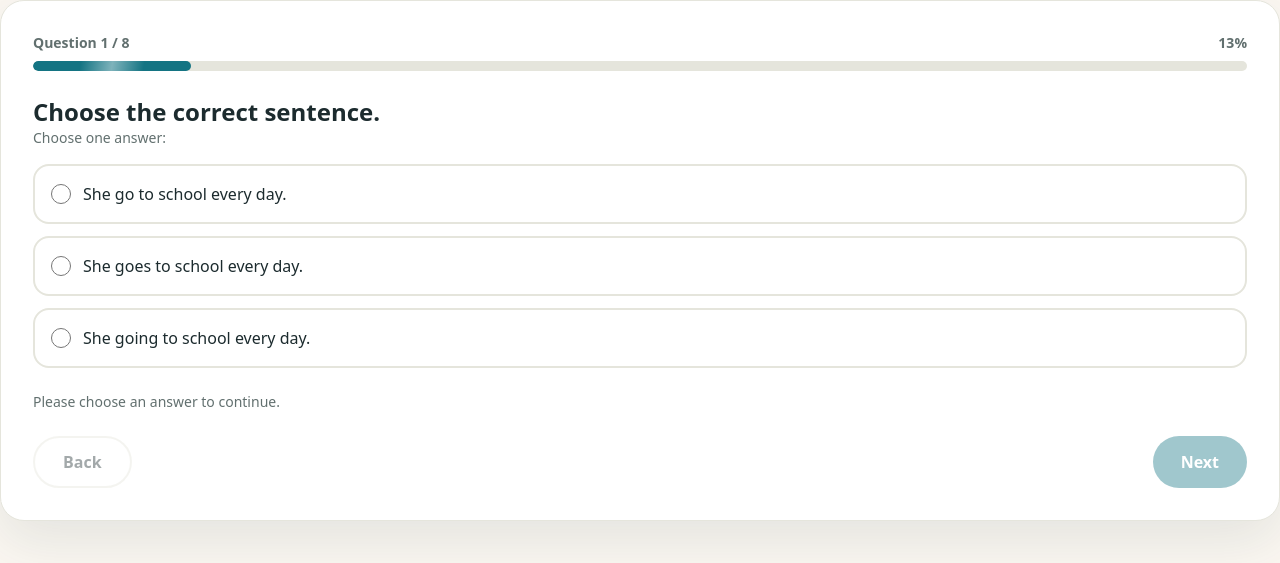
Test: LevelQuiz › preserves the selected answer when navigating back
Click the radio button labelled "She goes to school every day." at x=61, y=266, box [51,256,71,276]
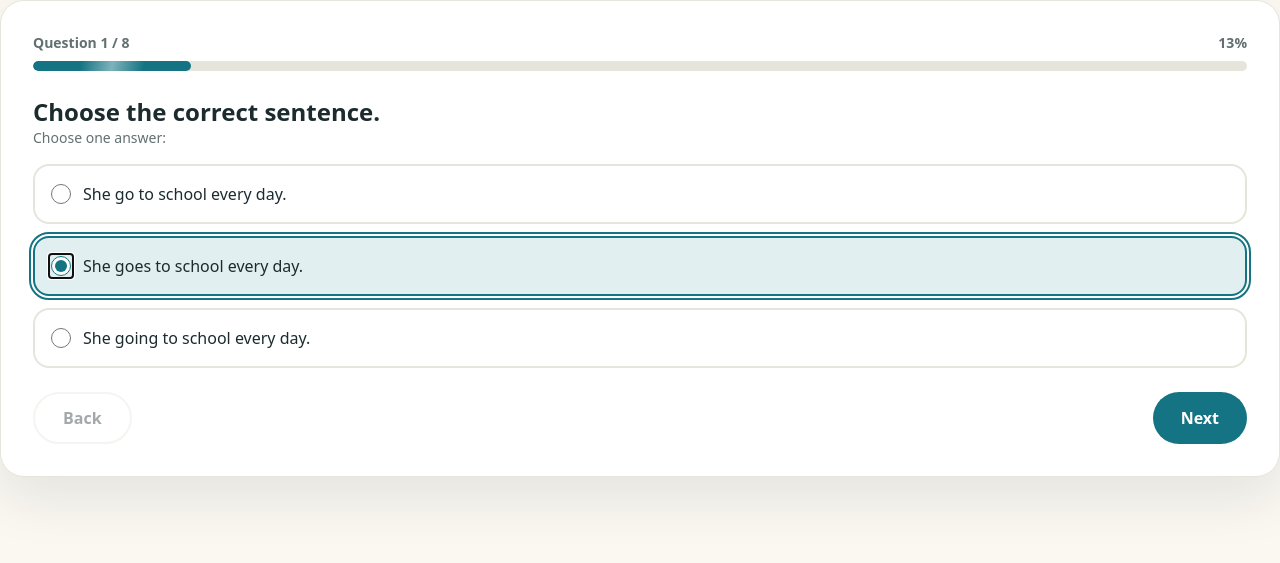
Click the button "Next" at x=1200, y=418, box [1153,392,1247,444]
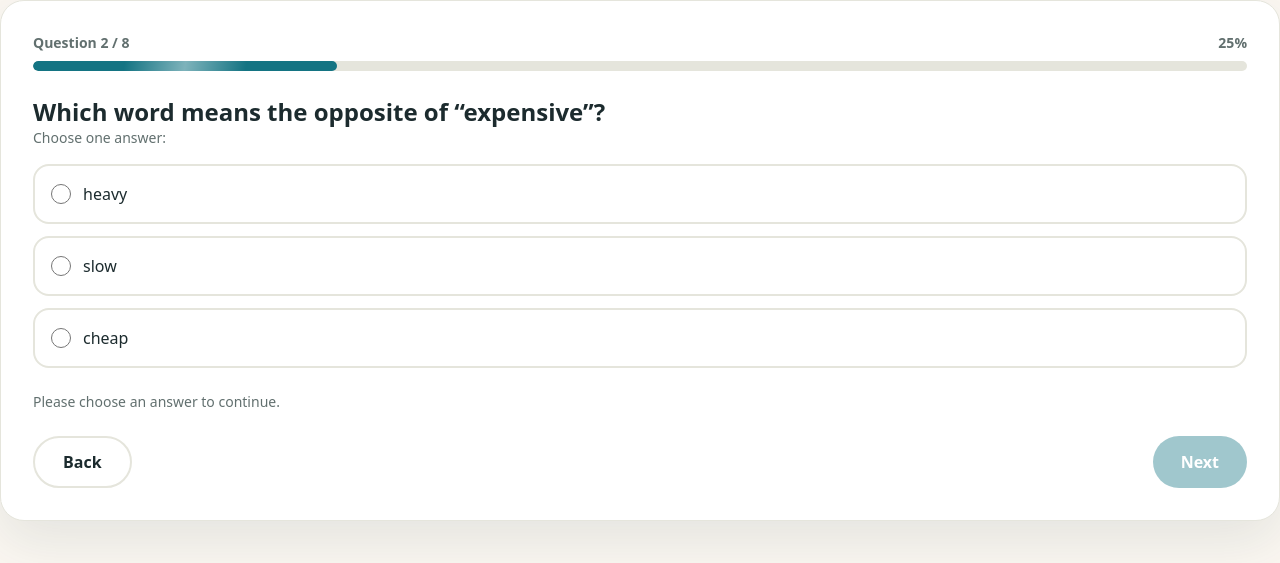
Click the button "Back" at x=82, y=462, box [33,436,132,488]
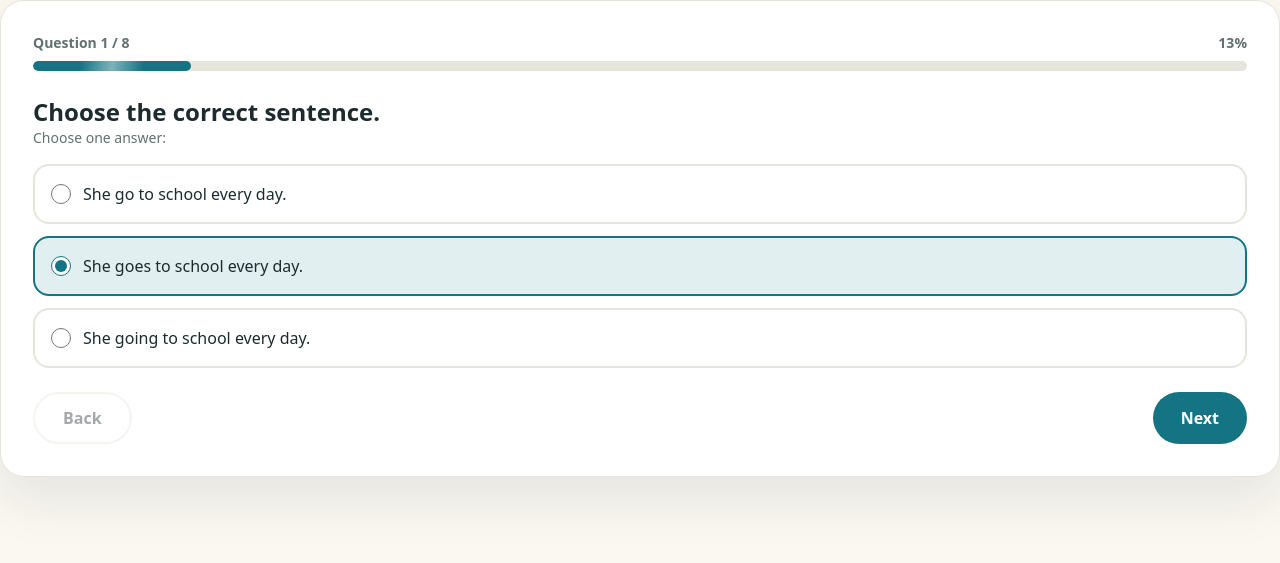
expect the radio button labelled "She goes to school every day." is checked: met, box [51,256,71,276]
